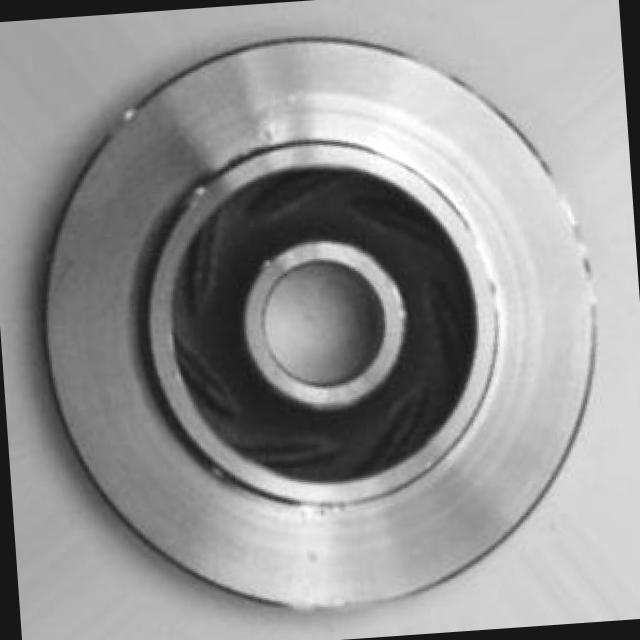Defect: (176, 173, 220, 218)
